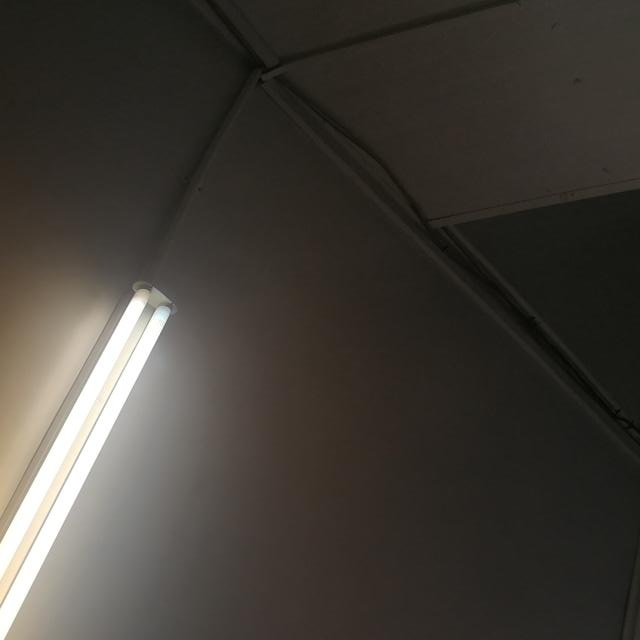fluorescent tube: (0, 253, 214, 640)
